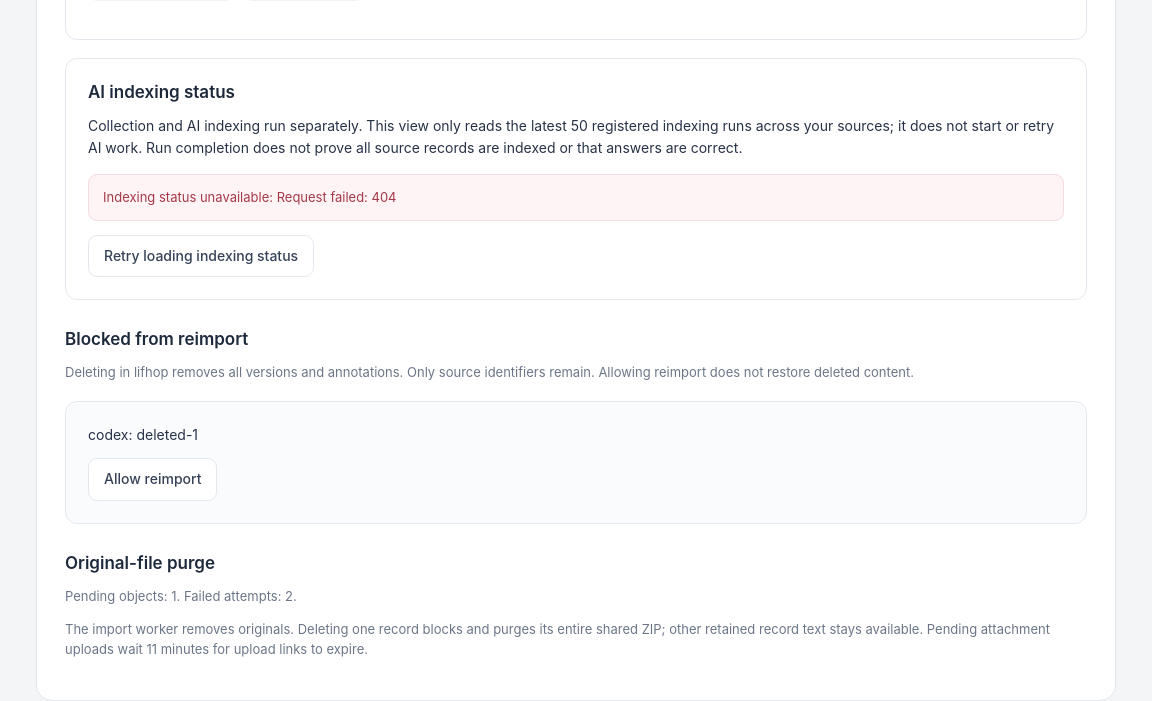
shows independent source controls, pending purge, and owner reimport action
This screenshot has width=1152, height=701.
(page scrolled)
Expected: the text "Pending objects: 1. Failed attempts: 2." is shown, [65,588,297,604]
Click the button "Allow reimport" at (153, 479), box [88,458,217,501]
(page scrolled)
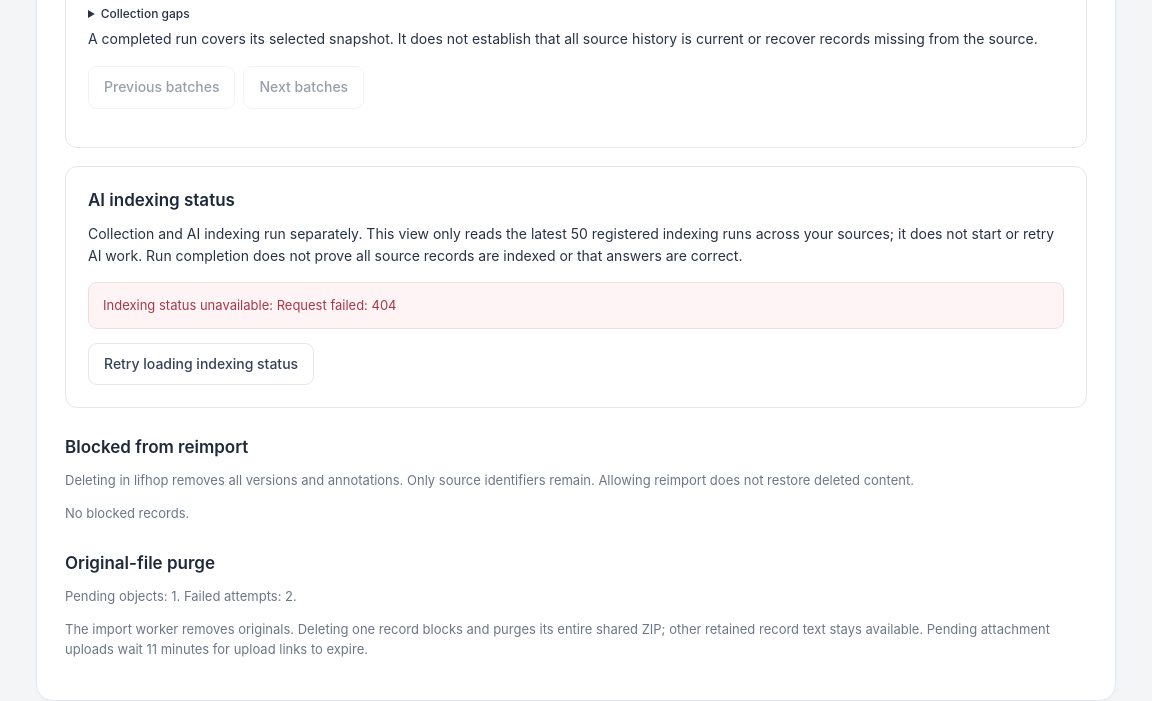
Result: the text "No blocked records." is shown at [65,505,189,521]
